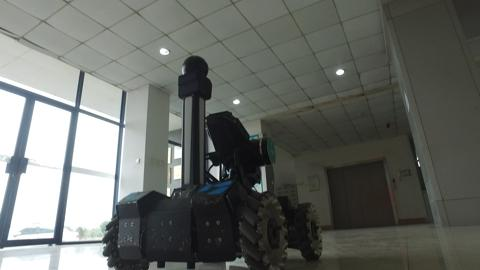chariot: (77, 51, 330, 270)
